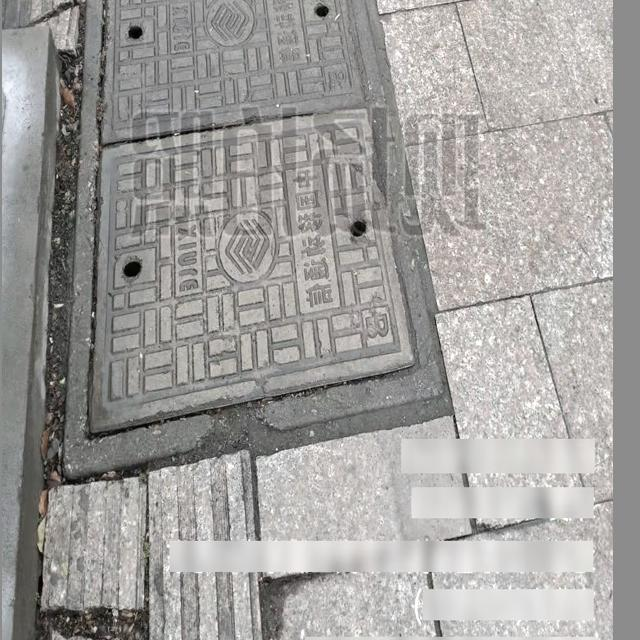good: (62, 0, 445, 482)
